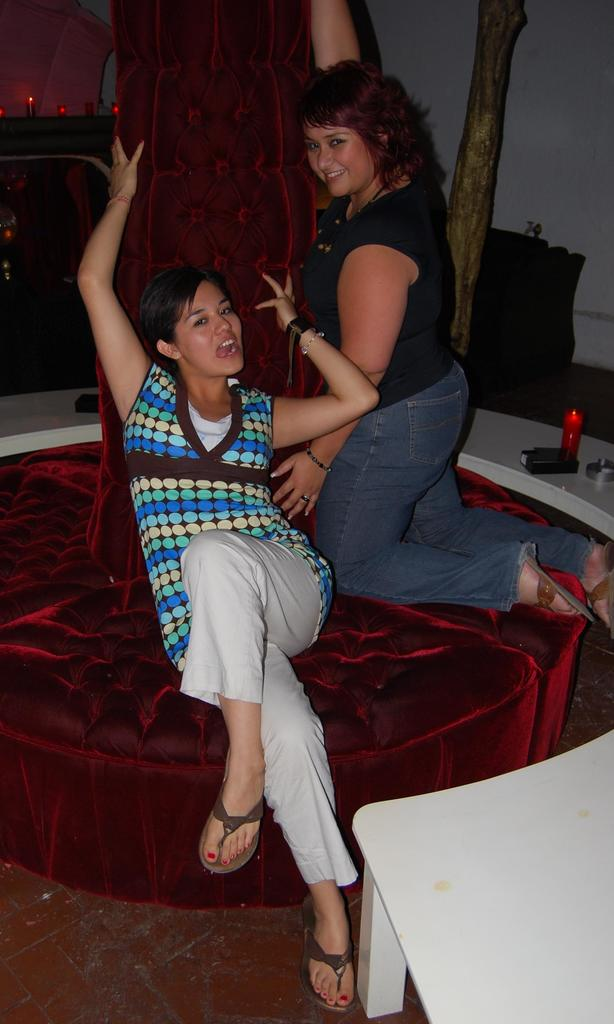Human_hand: (86, 127, 149, 216), (268, 452, 330, 522), (255, 273, 296, 330)
